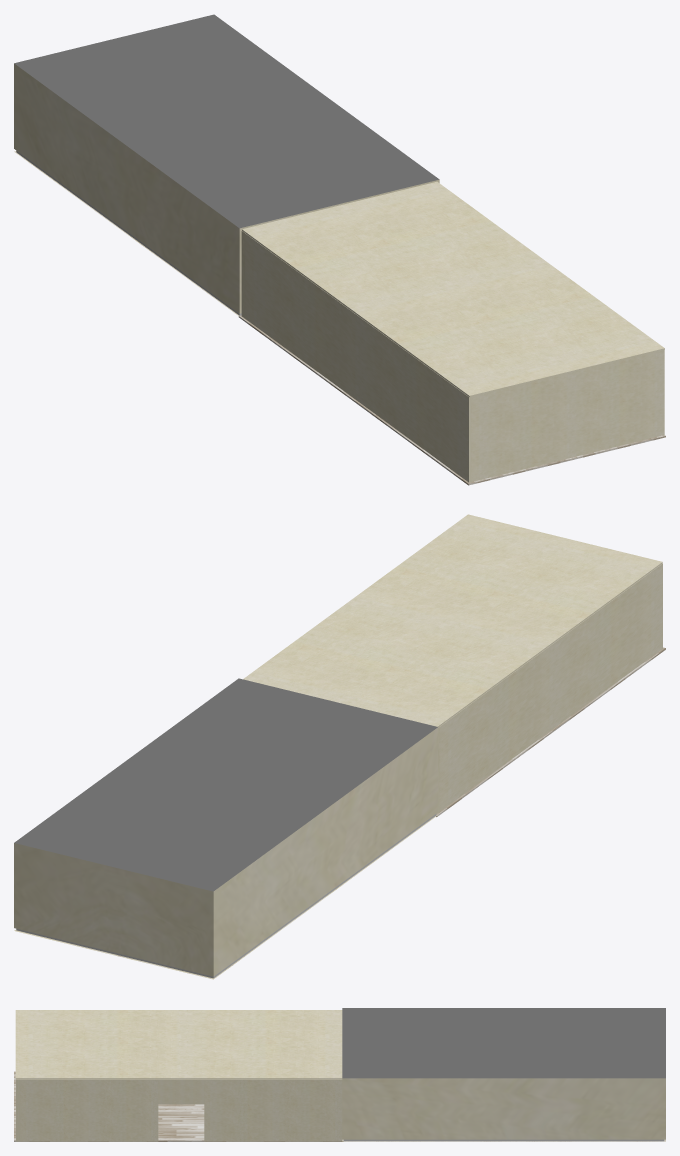
Rendered from two_rooms2.dae.
3 renders of one model, top to bottom at view 1: azimuth 30°, elevation 25°; view 2: azimuth 150°, elevation 25°; view 3: azimuth 270°, elevation 25°, orthographic. The views are drawn at different scales.
Visible parts, largest first — view 1: Box013; view 2: Box013; view 3: Box013.
Boxes of the visible parts, box(x1,y1,x2,y2) form: Box013: box(14, 14, 665, 485); Box013: box(14, 514, 665, 979); Box013: box(14, 1008, 665, 1141).
Bounding box in the file's own units: 285 × 1120 × 122.
